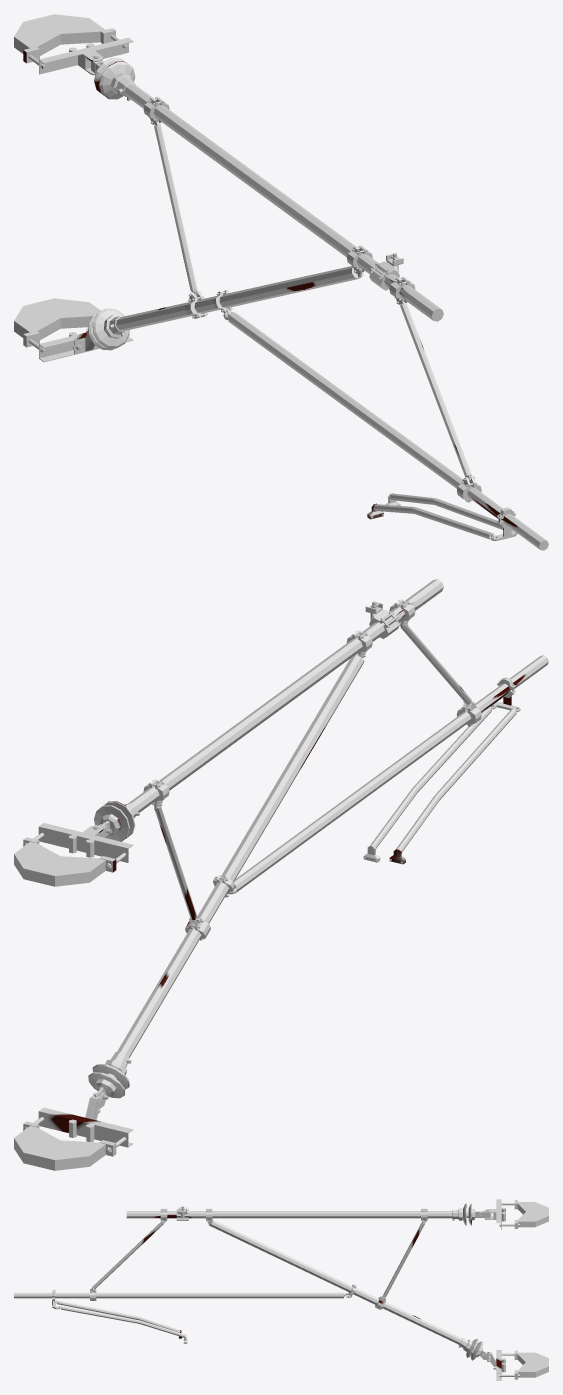
Rendered from Bracket2a.obj.
3 renders of one model, top to bottom at view 1: azimuth 30°, elevation 25°; view 2: azimuth 150°, elevation 25°; view 3: azimuth 270°, elevation 25°, orthographic. The views are drawn at different scales.
Visible parts, largest first — view 1: obj1; view 2: obj1; view 3: obj1.
Boxes of the visible parts, box(x1,y1,x2,y2) form: obj1: box(14, 14, 548, 550); obj1: box(14, 579, 548, 1170); obj1: box(14, 1199, 548, 1380).
Size of the model in its own units: 0.3603 by 1.2 by 3.51.
Materials: 1 (1 with a texture image).
